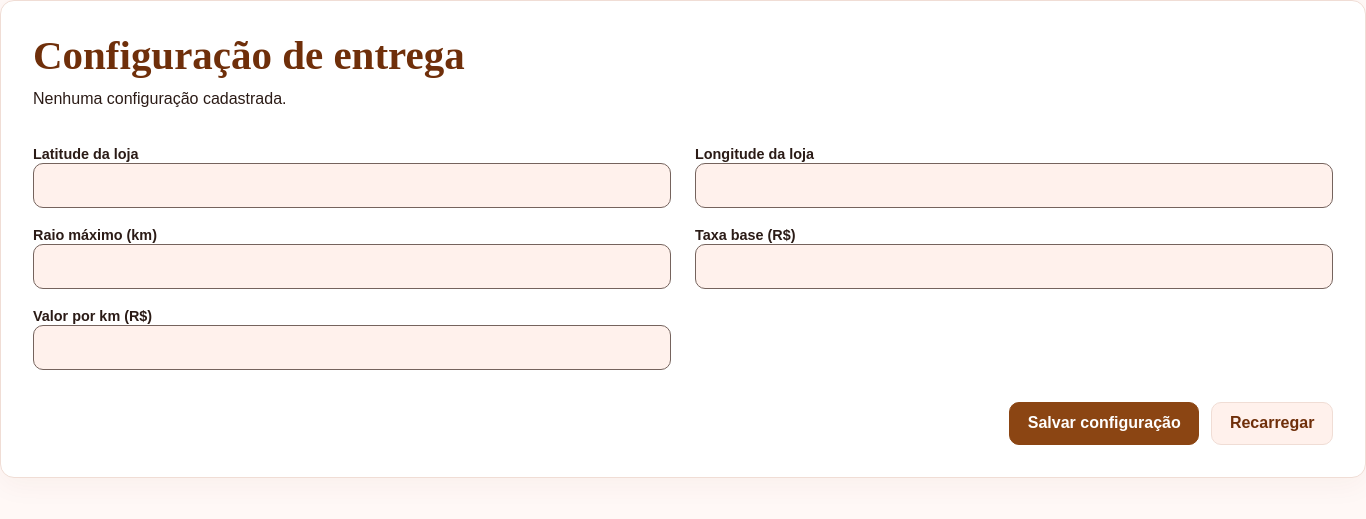
Test case: 404 mostra configuração ausente sem mensagem de erro
This screenshot has width=1366, height=519.
Expected: the text "Nenhuma configuração cadastrada." is shown, [33, 90, 286, 107]
Expected: the button "Recarregar" is shown, [1211, 402, 1333, 445]
Type "-23.550520" into the field labelled "Latitude da loja" at (352, 185), box [33, 163, 671, 208]
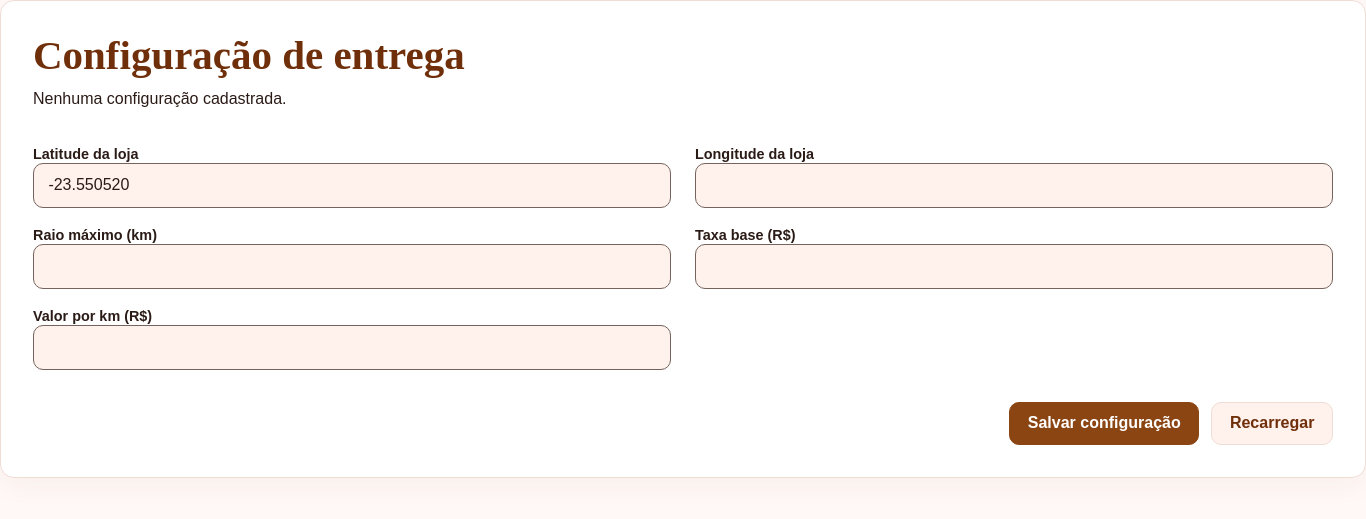
Type "-46.633308" into the field labelled "Longitude da loja" at (1014, 185), box [695, 163, 1333, 208]
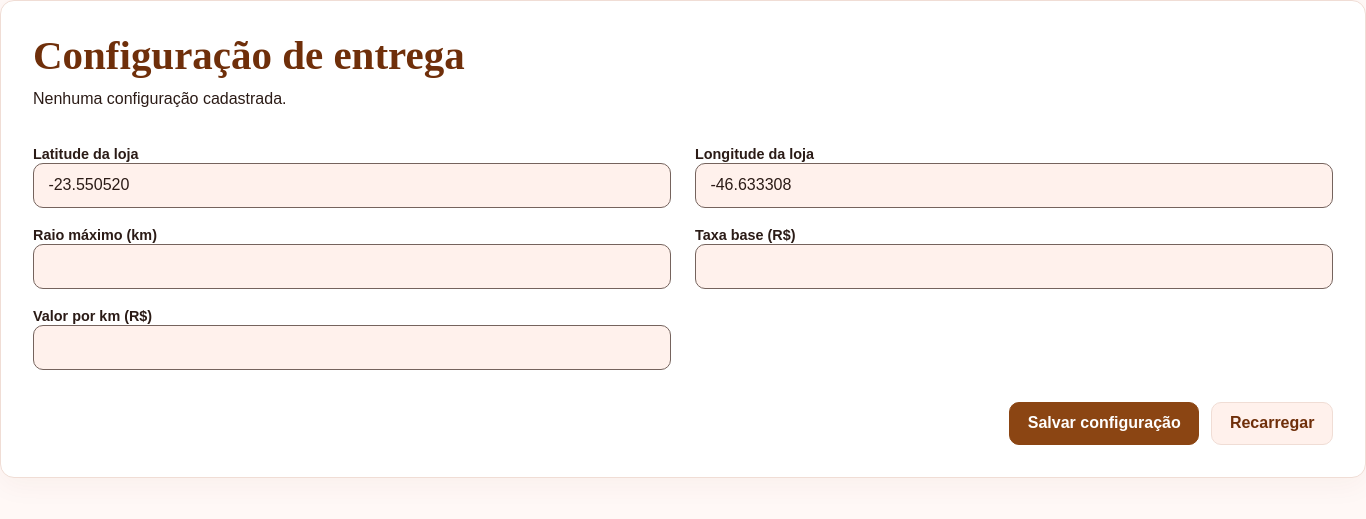
Type "10.000" into the field labelled "Raio máximo (km)" at (352, 266), box [33, 244, 671, 289]
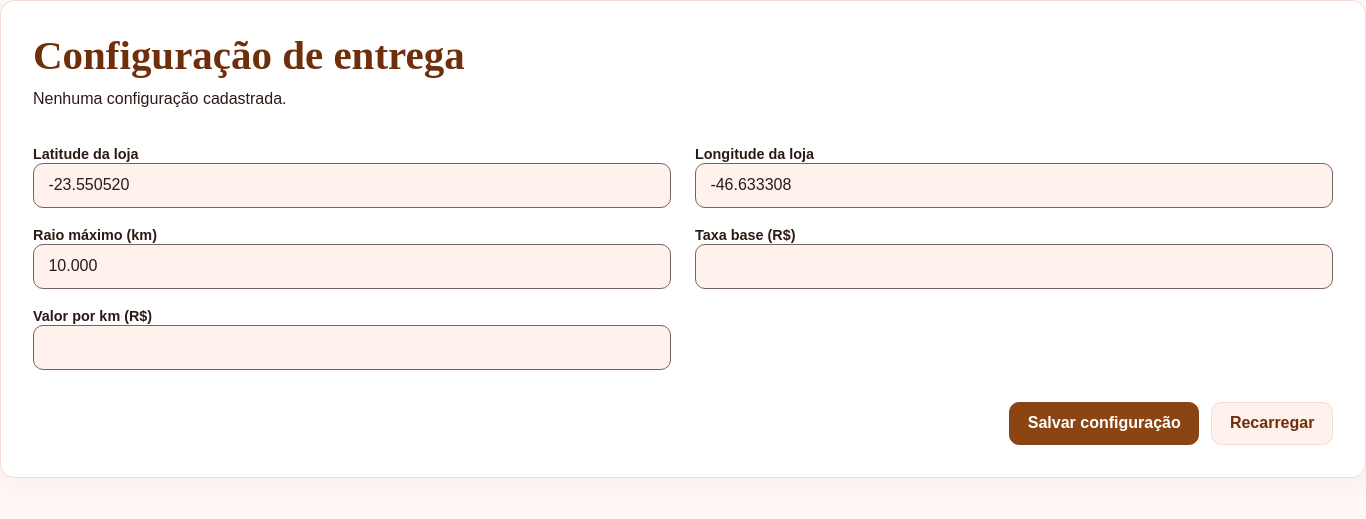
Type "5.00" into the field labelled "Taxa base (R$)" at (1014, 266), box [695, 244, 1333, 289]
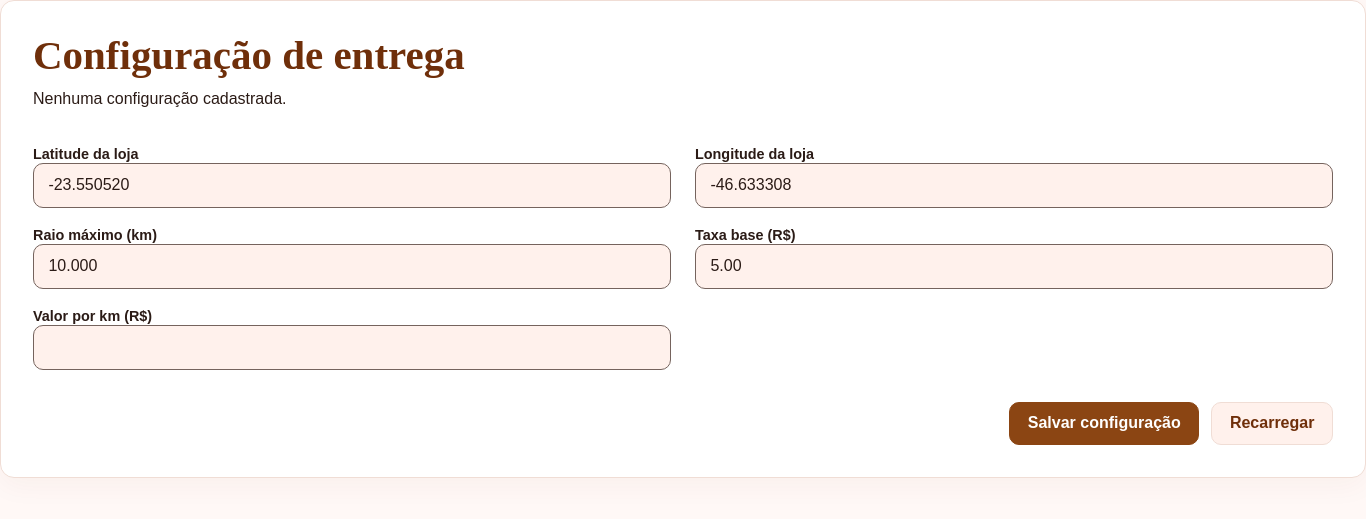
Type "2.00" into the field labelled "Valor por km (R$)" at (352, 347), box [33, 325, 671, 370]
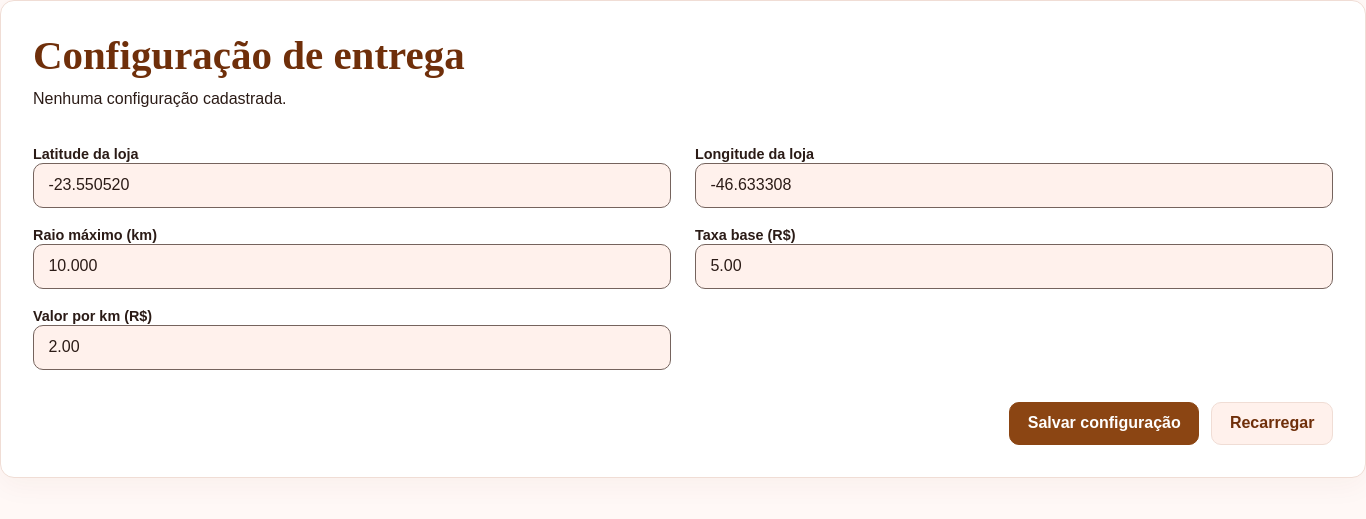
Click the button "Salvar configuração" at (1104, 423), box [1009, 402, 1199, 445]
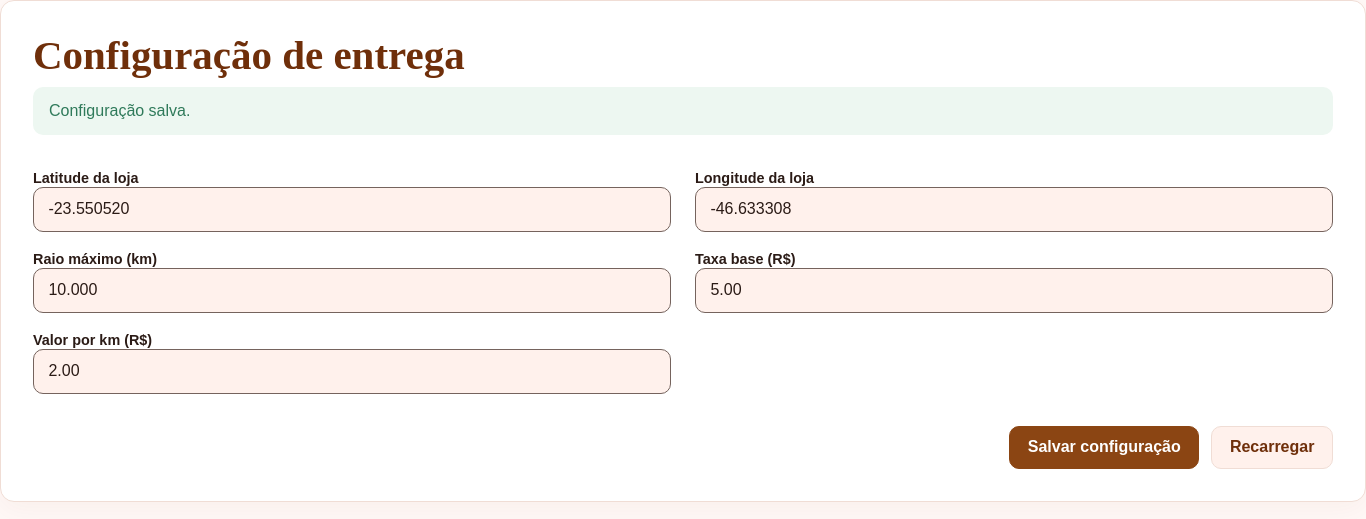
Result: the text "Configuração salva." is shown at [33, 87, 1333, 135]
